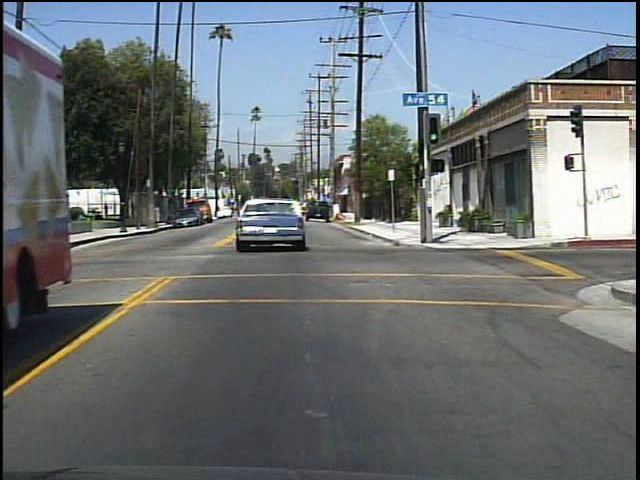person: (153, 203, 164, 230), (131, 200, 138, 220)
